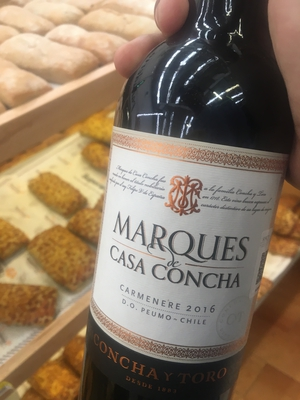marques de casa concha carmenere: (76, 34, 285, 390)
